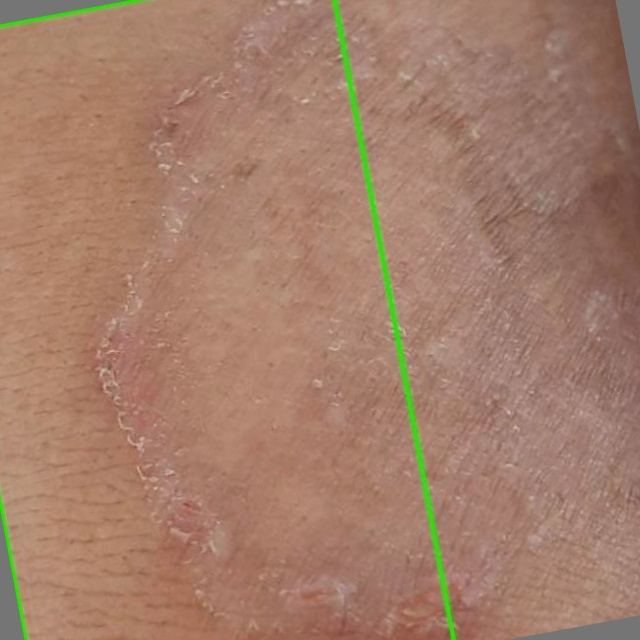Tinea Corporis: (0, 0, 453, 639)
